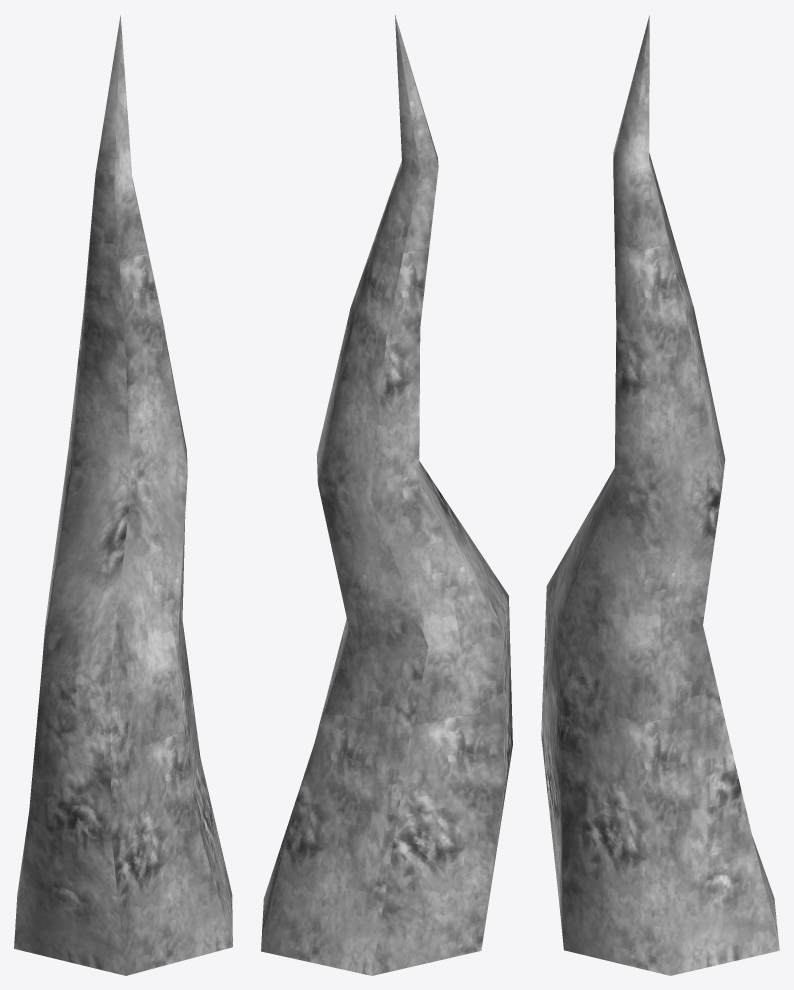
The model's file is Stalactic_02.fbx.
3 renders of one model, left to right at view 1: azimuth 30°, elevation 25°; view 2: azimuth 150°, elevation 25°; view 3: azimuth 270°, elevation 25°, orthographic.
Parts seen in each view (by area): view 1: Cone002; view 2: Cone002; view 3: Cone002.
Part boxes in pixels (left/top/right/bottom): Cone002: left=14, top=15, right=232, bottom=975; Cone002: left=261, top=15, right=512, bottom=975; Cone002: left=541, top=15, right=779, bottom=975.
Bounding box in the file's own units: 0.509 × 2 × 0.4784.
1 material, 1 textured.
